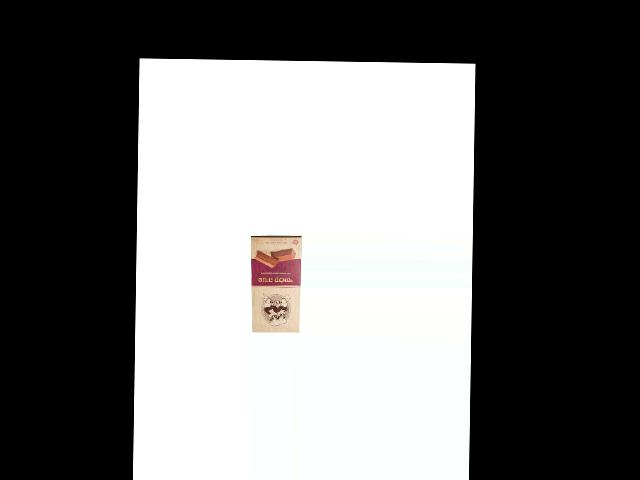chocolate: (247, 234, 300, 333)
